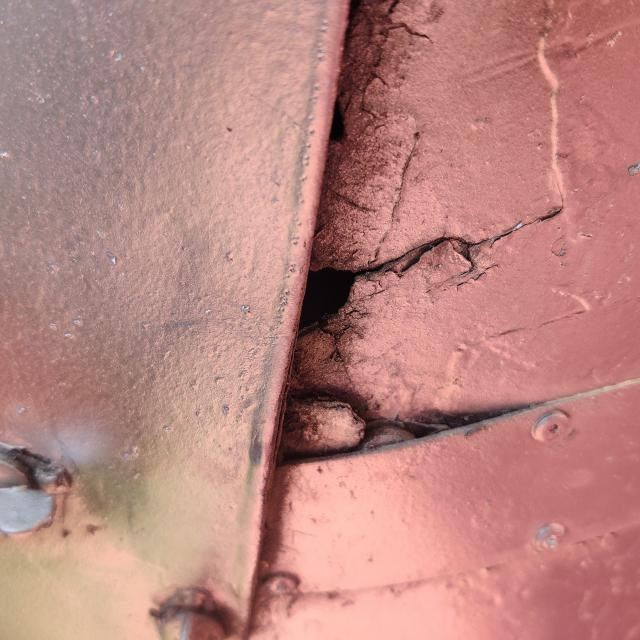crack: (269, 263, 422, 502)
